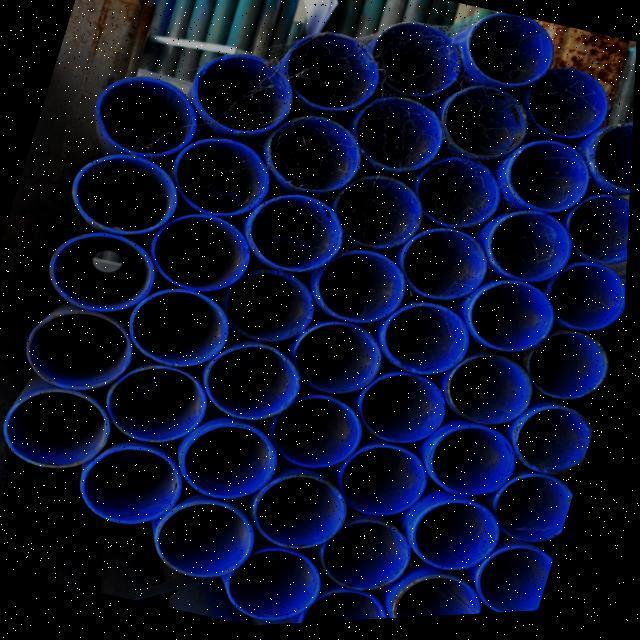pipe: (3, 378, 113, 470), (26, 301, 136, 390), (97, 77, 197, 165), (106, 365, 211, 444), (158, 500, 261, 580), (49, 234, 153, 312), (83, 450, 189, 526), (75, 158, 178, 236), (128, 291, 230, 368), (268, 116, 363, 197), (228, 548, 329, 624), (184, 423, 281, 502), (206, 345, 303, 423), (195, 55, 293, 132), (254, 478, 354, 553), (247, 195, 343, 273), (154, 216, 254, 290), (174, 141, 270, 218), (285, 37, 378, 114), (351, 100, 443, 176), (274, 398, 367, 472), (322, 524, 417, 596), (226, 270, 316, 345), (336, 177, 426, 251), (296, 324, 386, 398), (371, 26, 461, 99), (383, 307, 470, 382), (340, 449, 428, 523), (468, 283, 557, 356), (315, 255, 405, 327), (415, 160, 500, 236), (359, 376, 447, 449), (451, 356, 539, 429), (434, 430, 523, 502), (443, 91, 527, 167), (466, 19, 555, 89), (400, 232, 488, 302), (490, 216, 574, 289), (509, 143, 590, 217), (526, 75, 608, 148), (418, 505, 503, 575), (534, 335, 614, 406), (498, 479, 576, 551), (521, 409, 597, 482), (552, 270, 629, 338), (480, 552, 556, 619), (568, 201, 632, 276), (303, 589, 395, 627), (401, 582, 485, 623), (594, 129, 635, 198)
